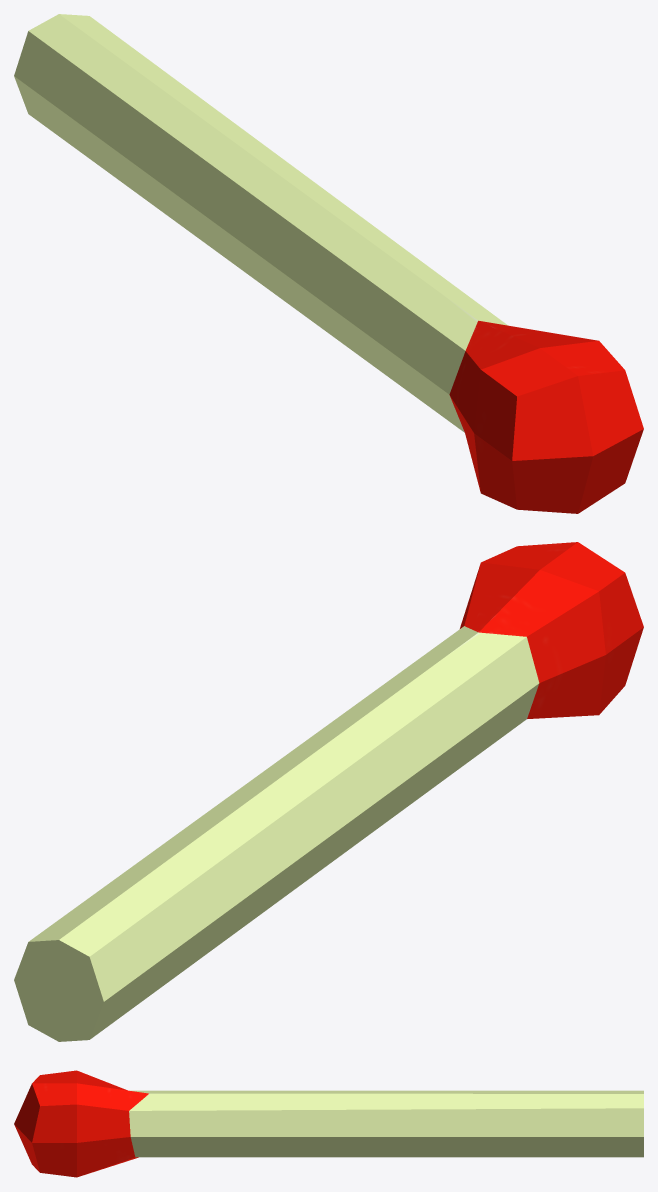
Rendered from Match.glb.
3 views of the same model, one above another, from view 1: azimuth 30°, elevation 25°; view 2: azimuth 150°, elevation 25°; view 3: azimuth 270°, elevation 25° (orthographic). The views are drawn at different scales.
Parts seen in each view (by area): view 1: Match; view 2: Match; view 3: Match.
Part boxes in pixels (<box>): Match: <box>14,14,643,513</box>; Match: <box>14,542,643,1041</box>; Match: <box>14,1070,643,1177</box>.
Size of the model in its own units: 0.5109 by 0.5109 by 3.59.
1 material, 1 textured.
